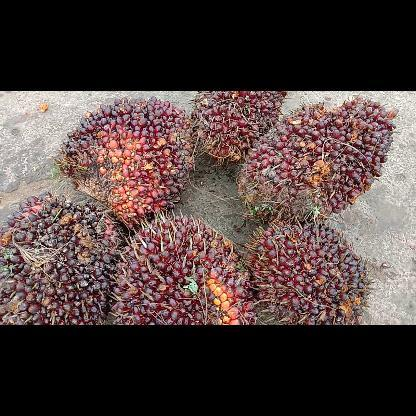Kurang masak: (236, 94, 400, 226), (52, 96, 198, 232), (0, 192, 129, 325), (108, 212, 260, 324), (246, 216, 378, 324), (190, 91, 289, 169)
